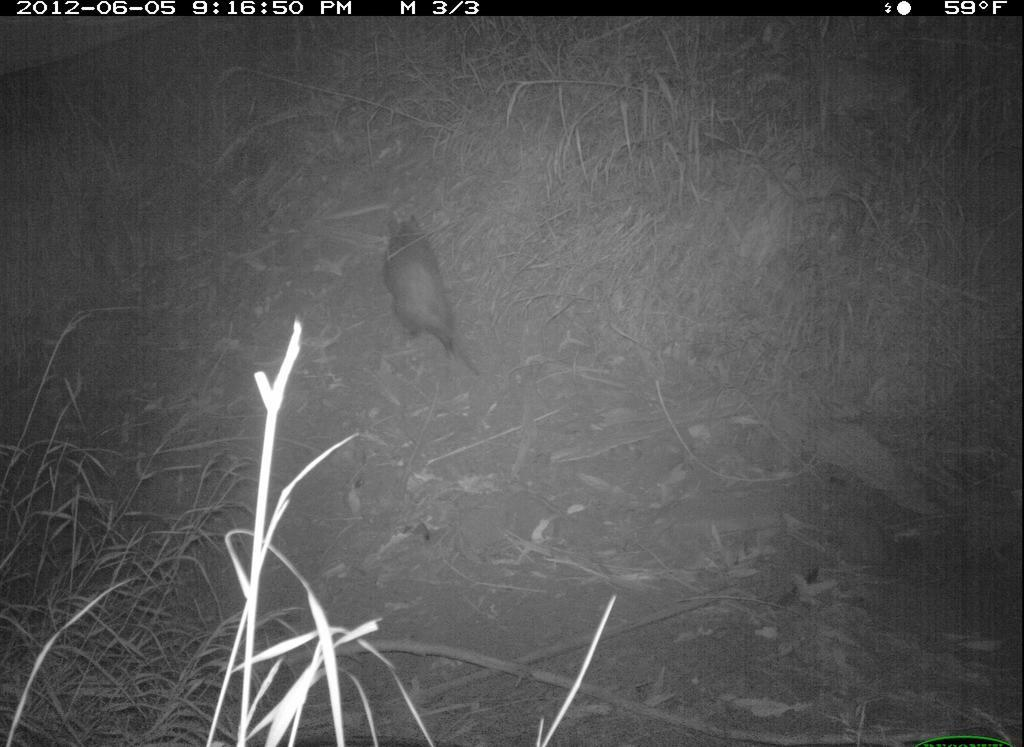opossum: (372, 205, 483, 399)
